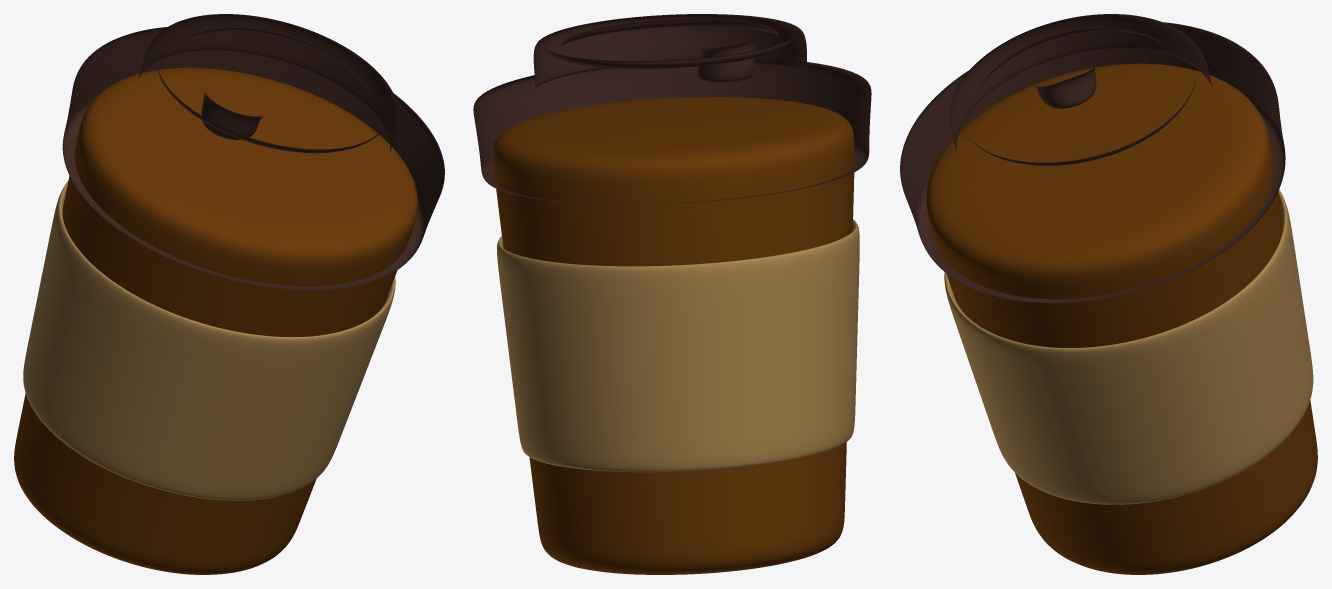
File: coffee-paper-cup.glb
The picture shows the model from 3 angles, left to right: view 1: azimuth 30°, elevation 25°; view 2: azimuth 150°, elevation 25°; view 3: azimuth 270°, elevation 25°; orthographic projection. The views are drawn at different scales.
Parts seen in each view (by area): view 1: Cylinder, Cylinder.002, Cylinder.003; view 2: Cylinder, Cylinder.002, Cylinder.003; view 3: Cylinder, Cylinder.002, Cylinder.003.
Boxes of the visible parts, x1=… form: Cylinder: x1=14, y1=67, x2=417, y2=574; Cylinder.002: x1=23, y1=181, x2=395, y2=500; Cylinder.003: x1=62, y1=14, x2=444, y2=290; Cylinder: x1=493, y1=97, x2=854, y2=574; Cylinder.002: x1=497, y1=219, x2=859, y2=472; Cylinder.003: x1=473, y1=14, x2=871, y2=204; Cylinder: x1=926, y1=63, x2=1317, y2=574; Cylinder.002: x1=944, y1=189, x2=1313, y2=504; Cylinder.003: x1=900, y1=14, x2=1285, y2=303.
Size of the model in its own units: 1.68 by 2.29 by 1.73.
